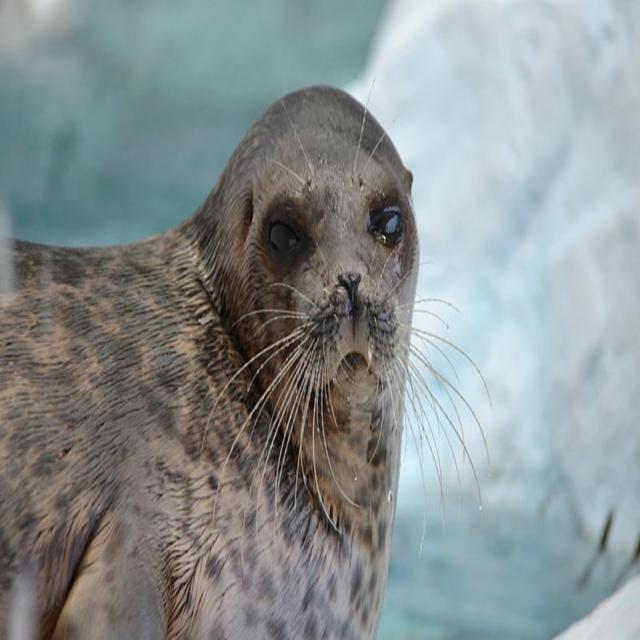WaterDog: (0, 74, 428, 640)
